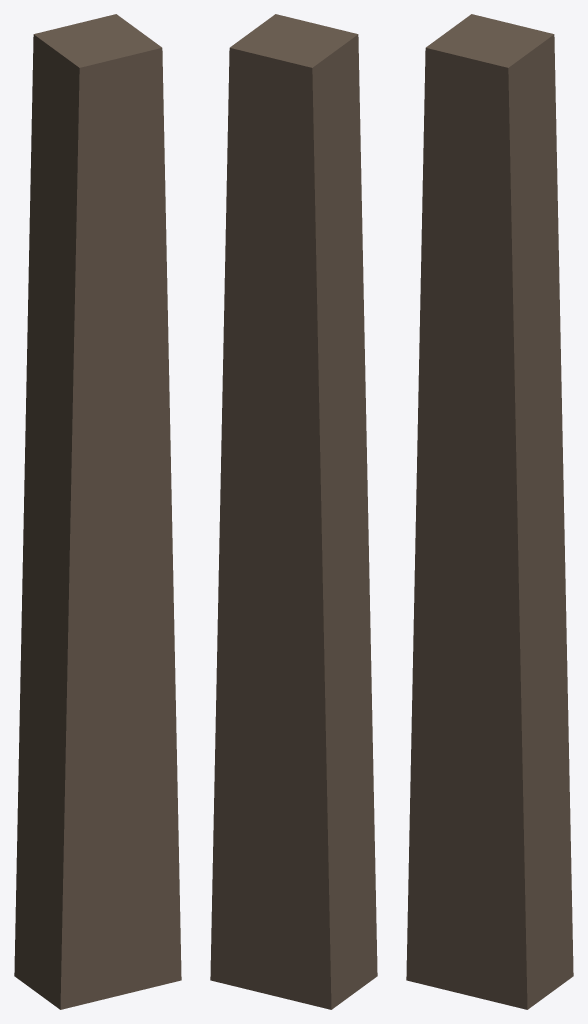
File: Clock2_C2_03.fbx
3 views of the same model, side by side, from view 1: azimuth 30°, elevation 25°; view 2: azimuth 150°, elevation 25°; view 3: azimuth 330°, elevation 25° (orthographic).
Visible parts, largest first — view 1: Clock2_C2_03; view 2: Clock2_C2_03; view 3: Clock2_C2_03.
Boxes of the visible parts, x1,y1,x2,y2 form: Clock2_C2_03: (14,14,181,1009); Clock2_C2_03: (210,14,377,1009); Clock2_C2_03: (406,14,573,1009).
Size of the model in its own units: 1.13 by 8.34 by 0.7428.
